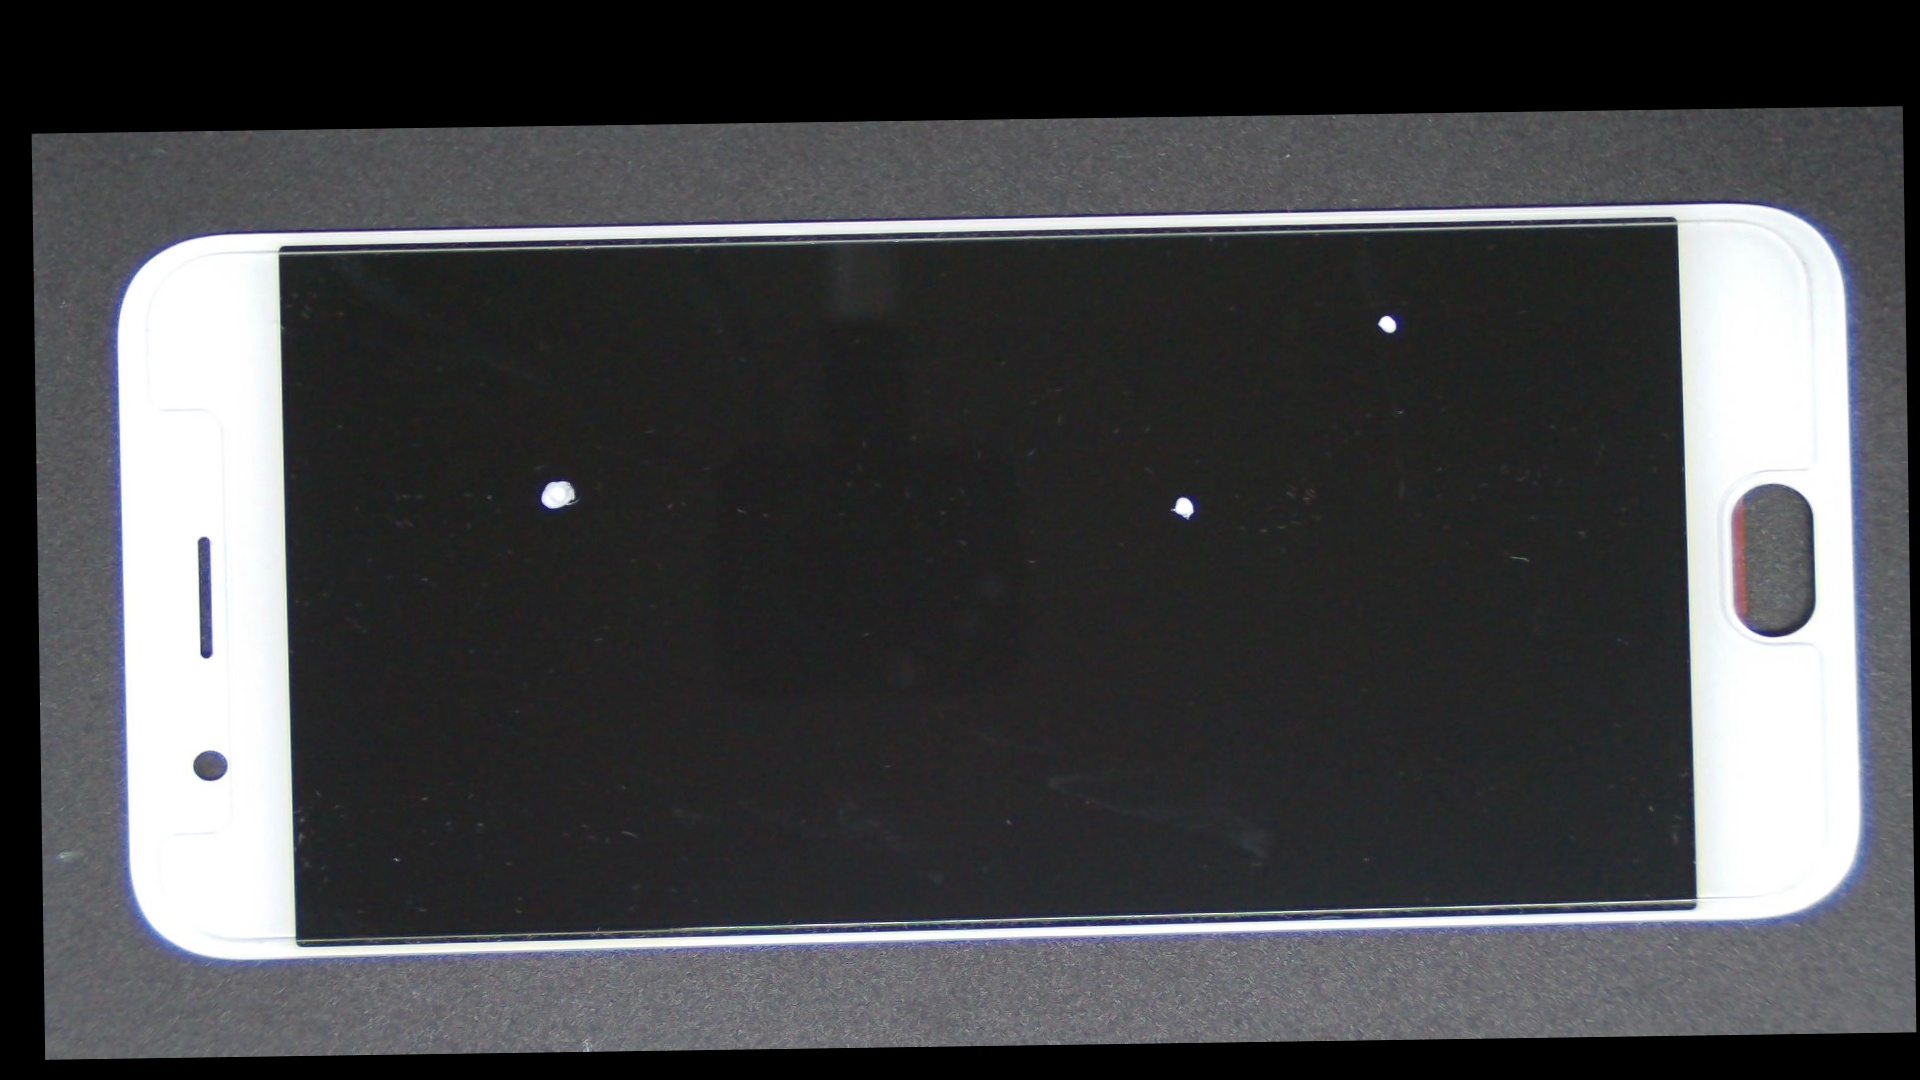oil: (608, 297, 1758, 692), (708, 206, 1907, 426), (293, 298, 814, 661)
